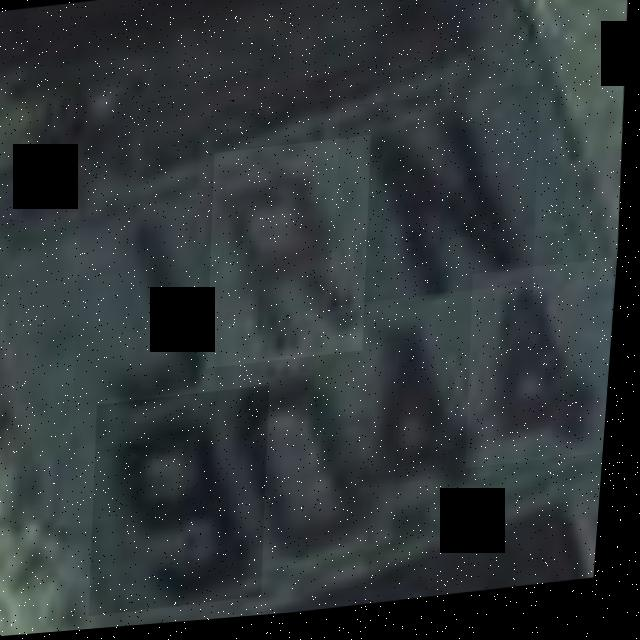0: (228, 348, 413, 580)
4: (466, 268, 622, 477), (354, 307, 508, 513)
9: (91, 389, 283, 618)
H: (204, 141, 380, 372)
J: (69, 187, 237, 449)
N: (330, 92, 549, 313)
